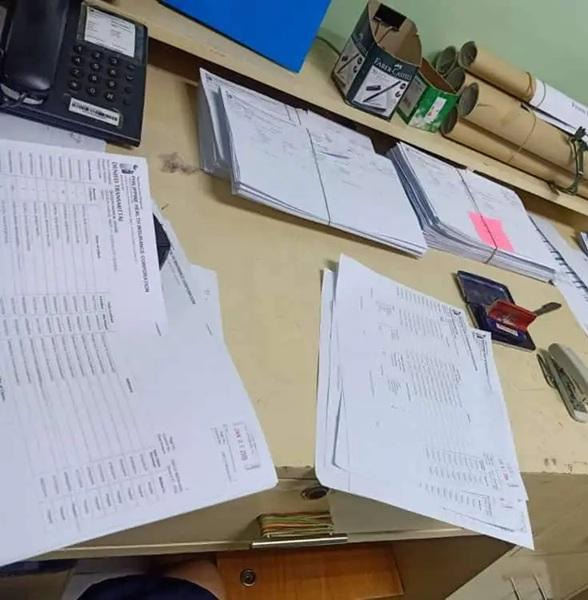plastic: (0, 139, 277, 568), (162, 66, 570, 312), (314, 256, 537, 550)
